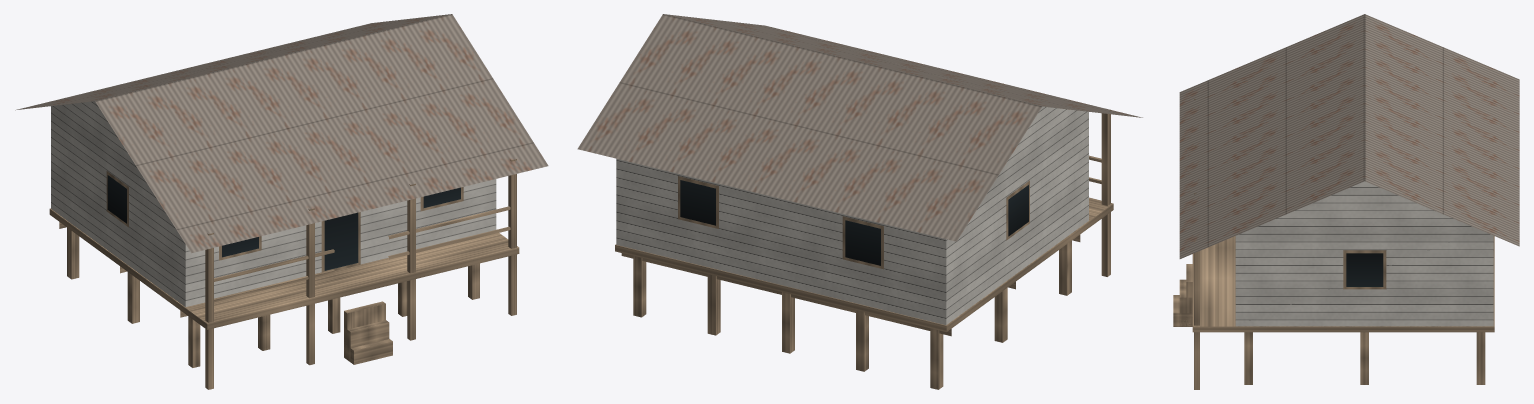
Rendered from house_stilt_house.glb.
The picture shows the model from 3 angles, left to right: view 1: azimuth 30°, elevation 25°; view 2: azimuth 150°, elevation 25°; view 3: azimuth 270°, elevation 25°; orthographic projection. The views are drawn at different scales.
Visible parts, largest first — view 1: LOD0; view 2: LOD0; view 3: LOD0.
Part boxes in pixels (left/top/right/bottom): LOD0: left=15, top=14, right=548, bottom=389; LOD0: left=577, top=14, right=1142, bottom=389; LOD0: left=1173, top=14, right=1519, bottom=389.
Size of what is drawn, in the model's own units: 9.2 by 5.65 by 8.05.
3 materials, 3 textured.
